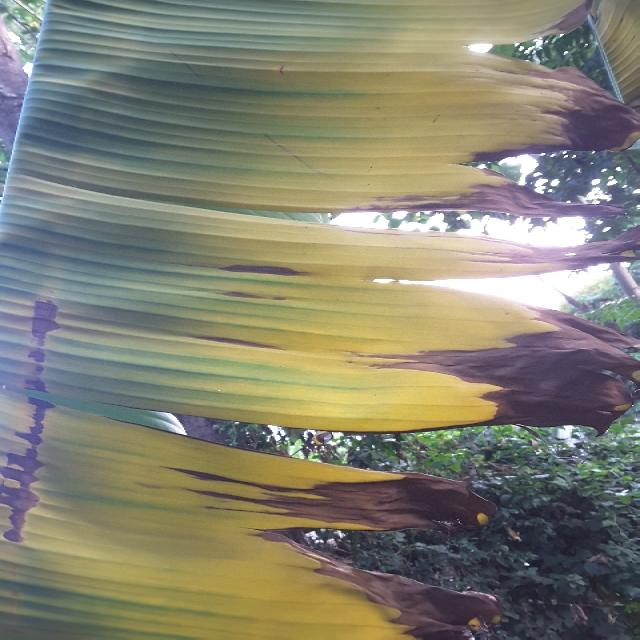Cordana: (2, 0, 590, 640), (586, 0, 640, 123)
